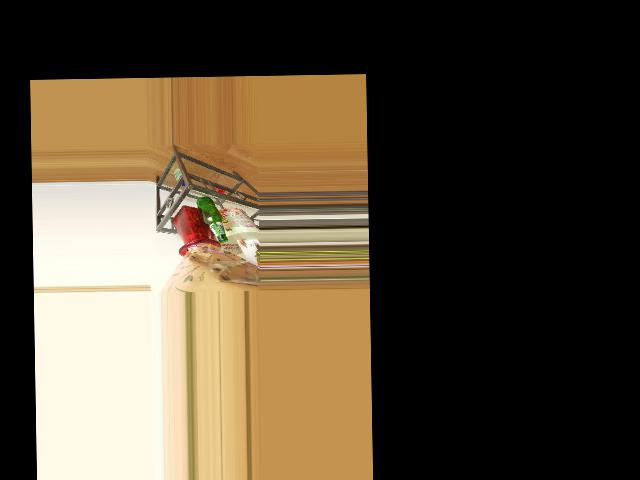beer: (196, 196, 227, 243)
